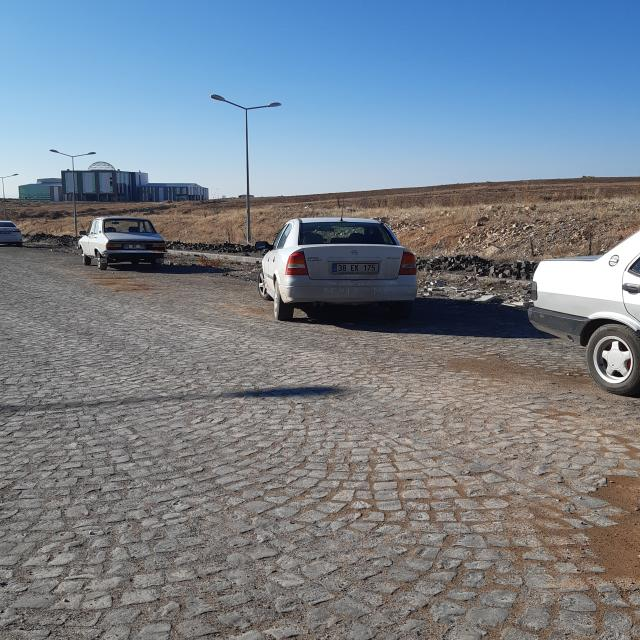license_plate: (332, 263, 380, 273)
